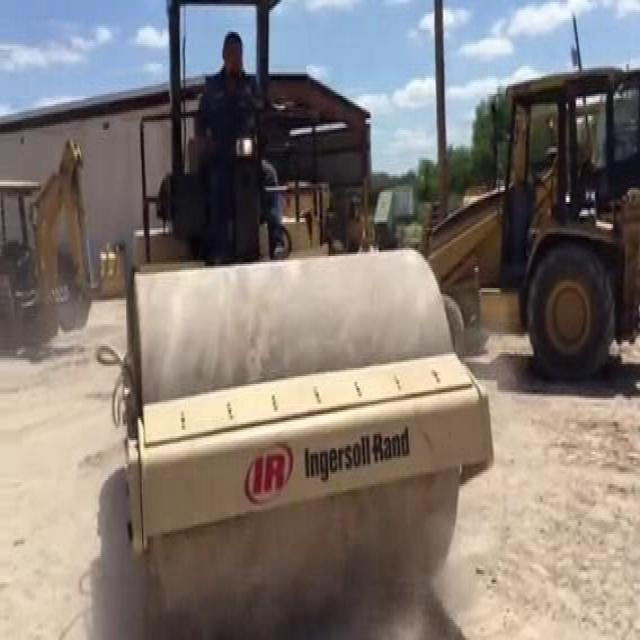Roller: (102, 6, 494, 630)
